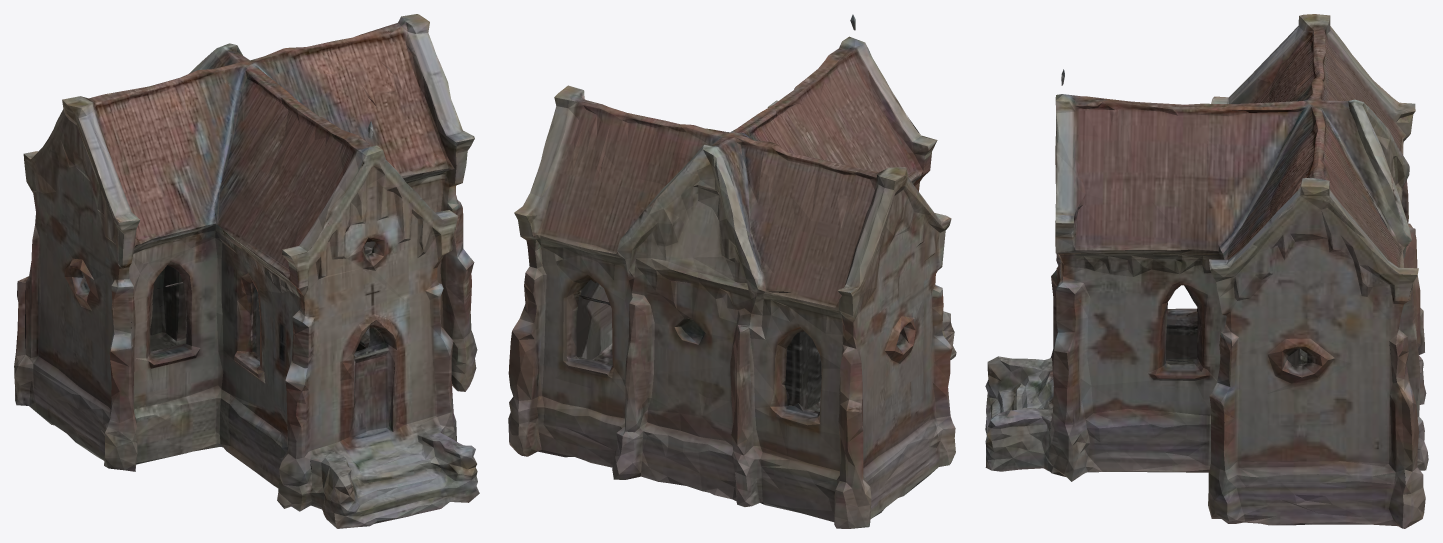
The model's file is church_old_brick_lod0.glb.
3 views of the same model, side by side, from view 1: azimuth 30°, elevation 25°; view 2: azimuth 150°, elevation 25°; view 3: azimuth 270°, elevation 25° (orthographic). The views are drawn at different scales.
Visible parts, largest first — view 1: church_old_brick_lod0; view 2: church_old_brick_lod0; view 3: church_old_brick_lod0.
Part boxes in pixels (x1,y1,x2,y2): church_old_brick_lod0: [14, 14, 479, 528]; church_old_brick_lod0: [508, 14, 956, 528]; church_old_brick_lod0: [985, 14, 1428, 528].
Size of the model in its own units: 10.79 by 10.15 by 10.96.
1 material, 1 textured.
